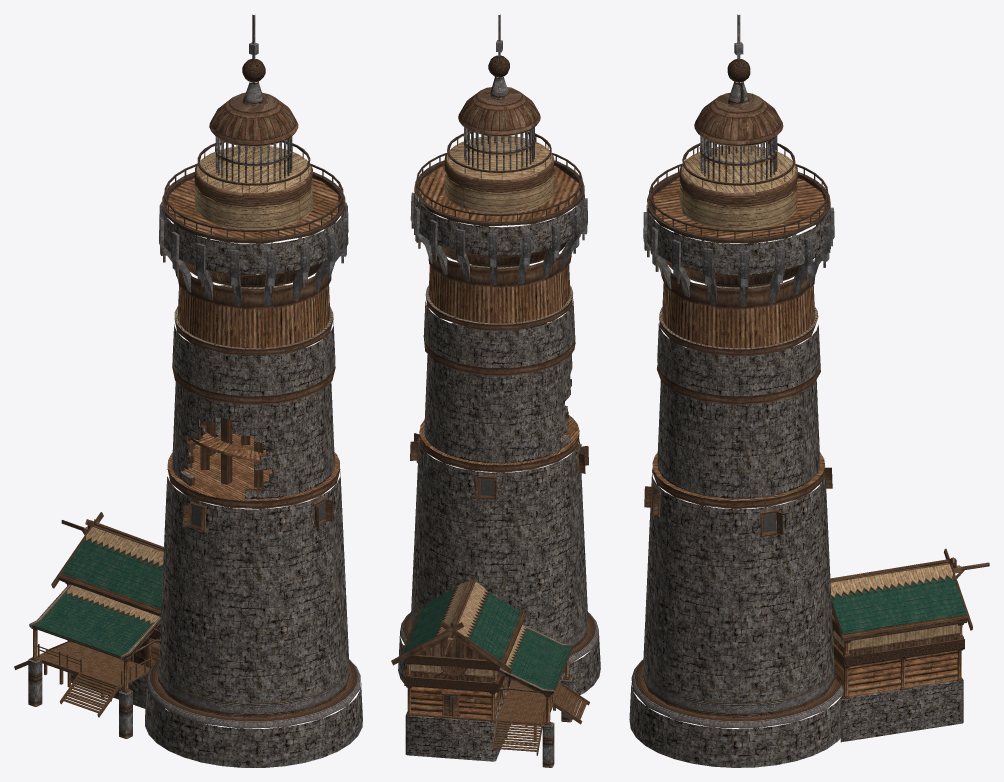
Rendered from O_mdl_env_buildingCierzoLighthouseA_LOD0-transformed.glb.
3 views of the same model, side by side, from view 1: azimuth 30°, elevation 25°; view 2: azimuth 150°, elevation 25°; view 3: azimuth 270°, elevation 25° (orthographic). The views are drawn at different scales.
Visible parts, largest first — view 1: default; view 2: default; view 3: default.
Boxes of the visible parts, <box> form: default: <box>14,14,362,767</box>; default: <box>391,14,600,767</box>; default: <box>629,14,989,767</box>.
Bounding box in the file's own units: 22.69 × 65.72 × 29.92.
8 materials, 8 textured.
